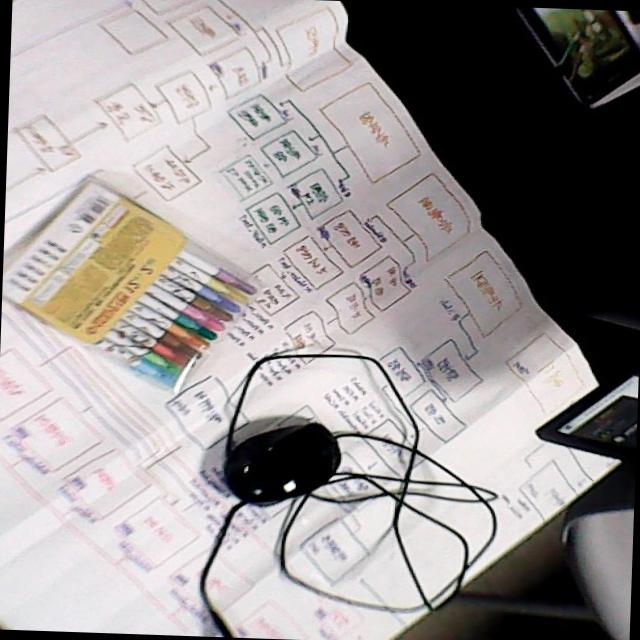mouse: (213, 419, 348, 510)
signpen: (3, 170, 276, 402)
